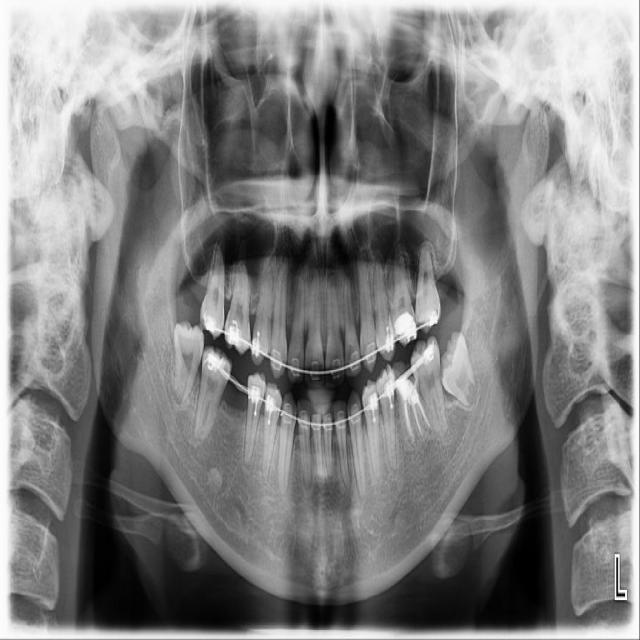52: (390, 359, 423, 414)
73: (397, 397, 437, 448), (616, 612, 624, 620)
BioHorizons Implant: (412, 232, 443, 335)
Biomet 3i Implant: (433, 329, 480, 411)
Blue Sky Bio Implant: (407, 335, 449, 439)
Caries: (199, 236, 226, 340)
Implant: (192, 345, 234, 442)
Keystone Dental Implant: (172, 319, 205, 405)
